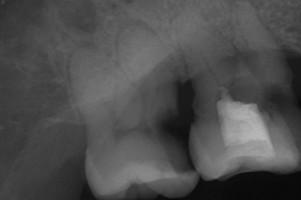Furcation Involvement: (114, 18, 159, 56)
